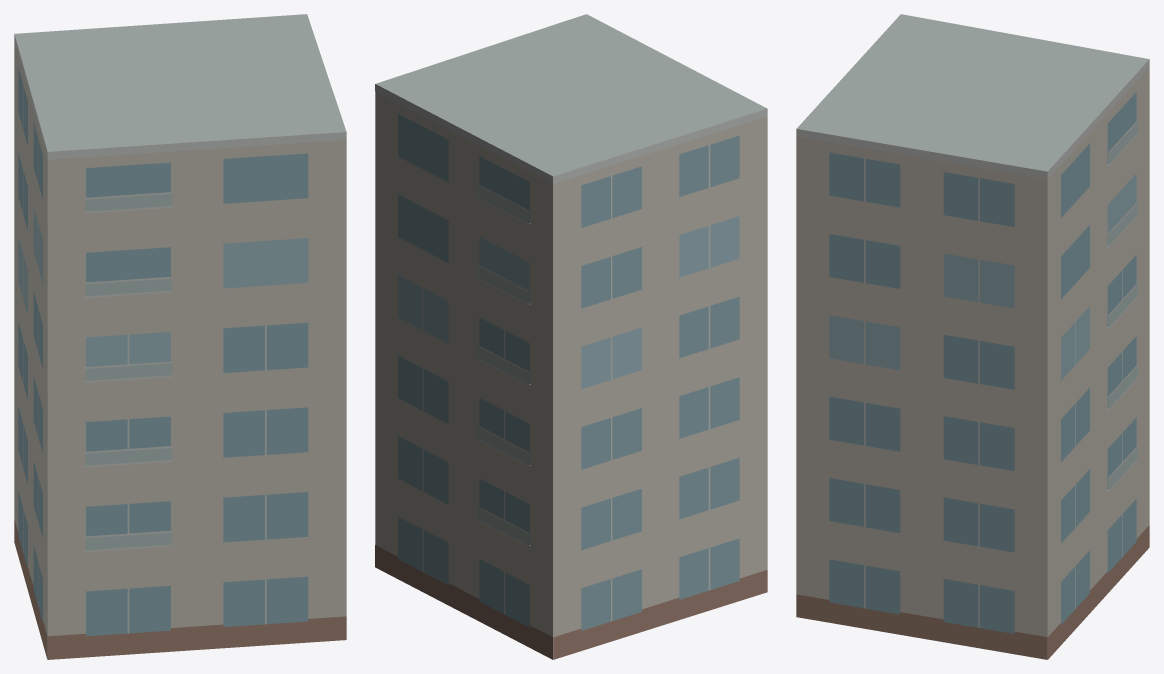
File: survey-upis-32982421.glb
3 views of the same model, side by side, from view 1: azimuth 30°, elevation 25°; view 2: azimuth 150°, elevation 25°; view 3: azimuth 270°, elevation 25° (orthographic). The views are drawn at different scales.
Parts seen in each view (by area): view 1: survey-upis-32982421.tmp; view 2: survey-upis-32982421.tmp; view 3: survey-upis-32982421.tmp.
Boxes of the visible parts, bbox=[...] form: survey-upis-32982421.tmp: bbox=[14, 14, 346, 659]; survey-upis-32982421.tmp: bbox=[375, 14, 767, 659]; survey-upis-32982421.tmp: bbox=[796, 14, 1149, 659].
Size of the model in its own units: 10.88 by 15.7 by 10.3.
